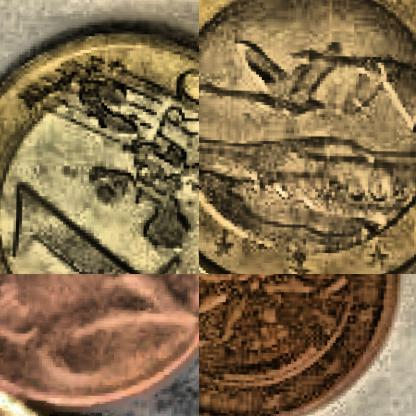coin: (199, 0, 415, 273), (0, 31, 198, 273), (199, 274, 416, 415), (0, 274, 198, 407)
